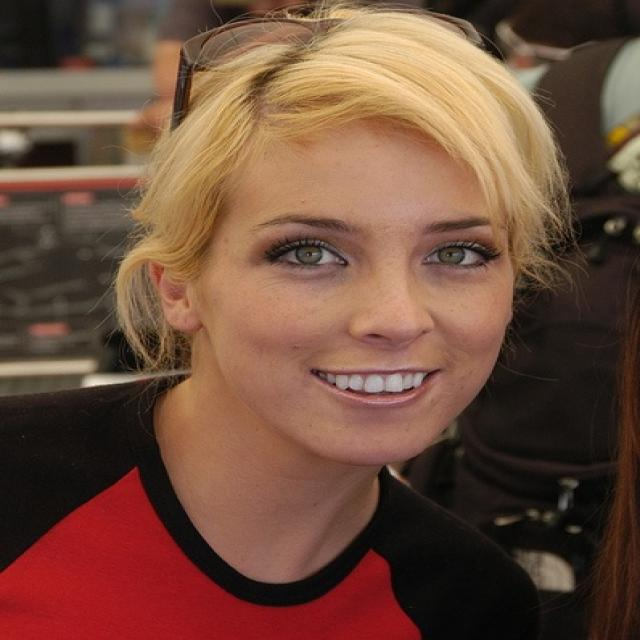person: (1, 7, 565, 639)
